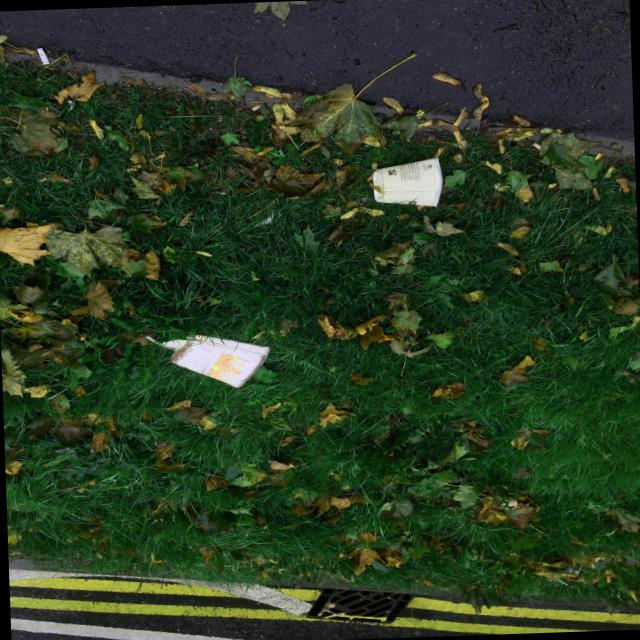less trash: (162, 335, 269, 387), (370, 157, 442, 206)
